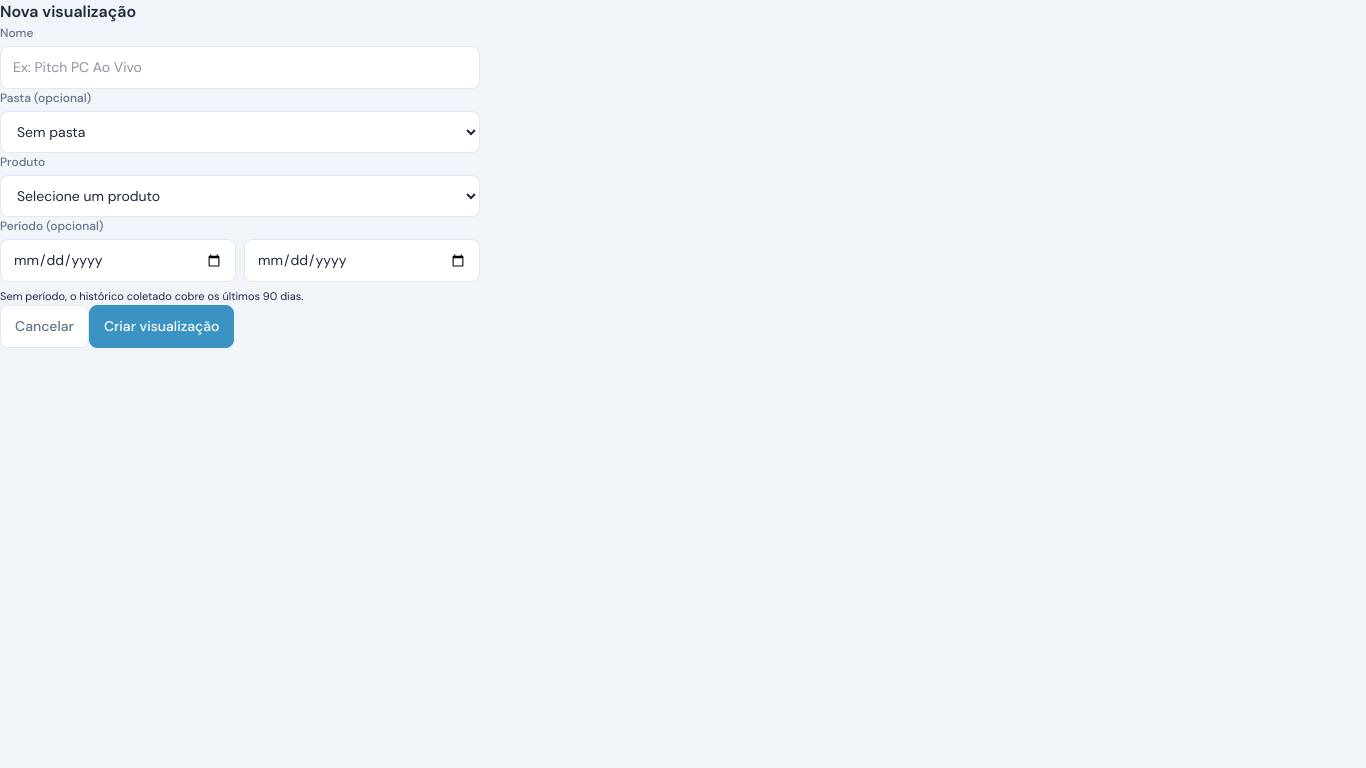
Scenario: ViewFormModal — criar › código manual: trim, aceita sem venda conhecida, recusa duplicado e vazio
Select "Produto Um" in the dropdown with test id "view-form-product" at (240, 196), box [0, 175, 480, 217]
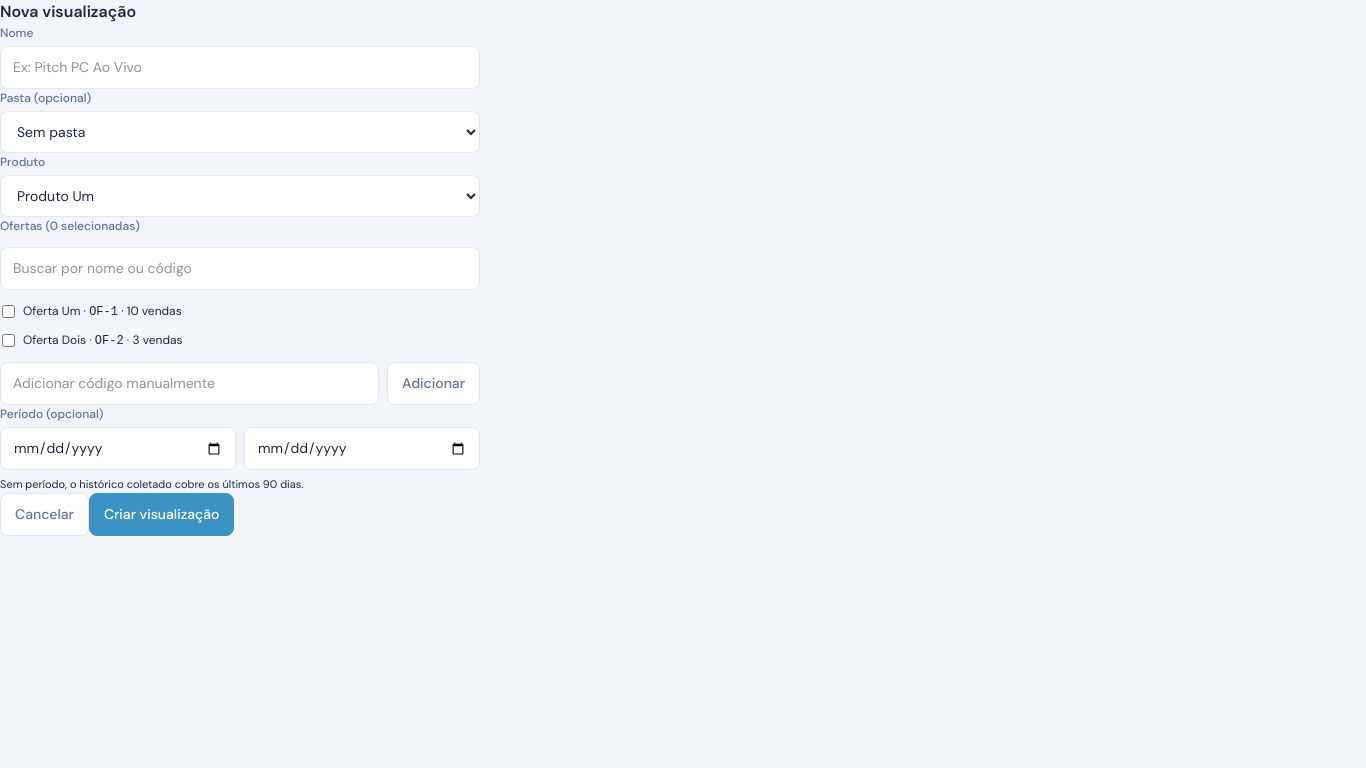
Result: the checkbox with test id "view-form-offer-OF-1" is shown at [2, 305, 15, 318]
Click the button with test id "view-form-manual-add" at (434, 384), box [387, 362, 480, 405]
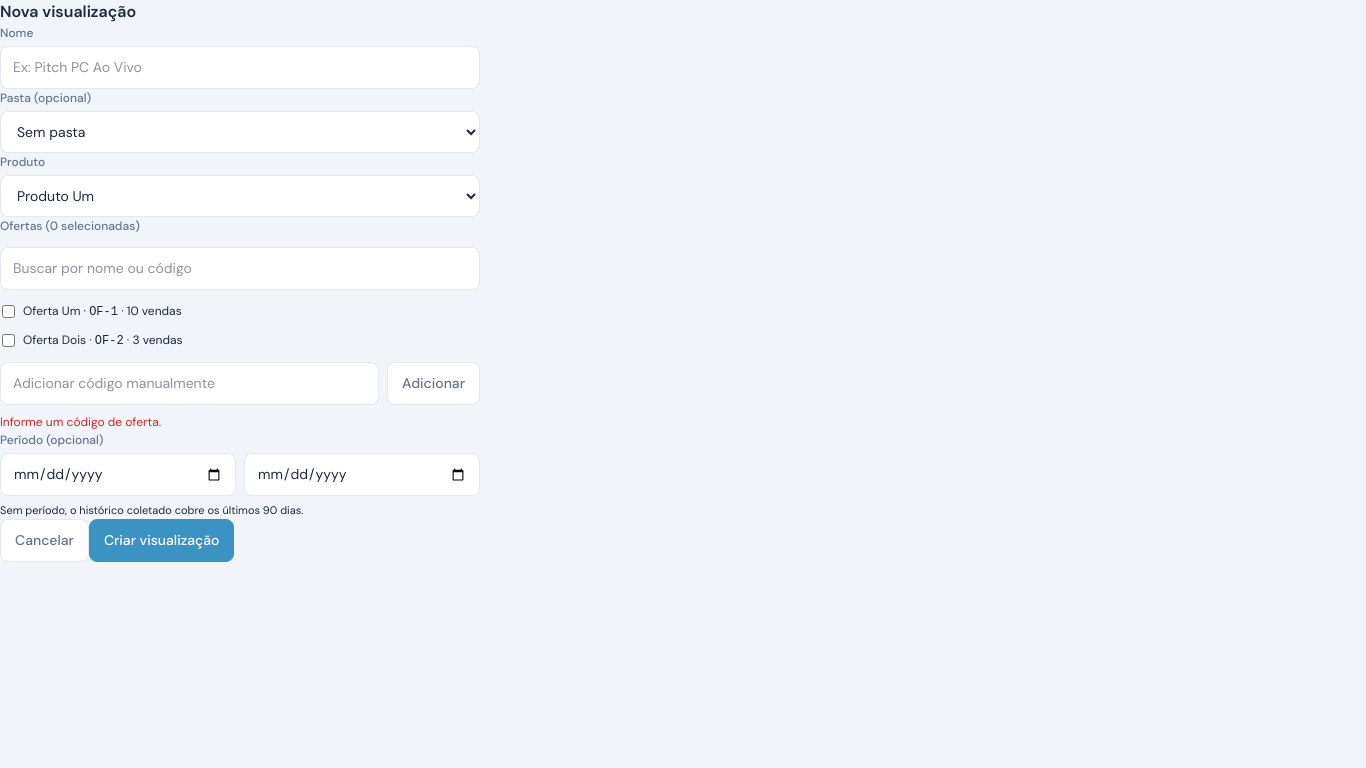
Result: the message with test id "view-form-offer-message" shows "Informe um código" at [0, 414, 161, 430]
Type "  ZZ9  " into the field with test id "view-form-manual-input" at (190, 384), box [0, 362, 379, 405]
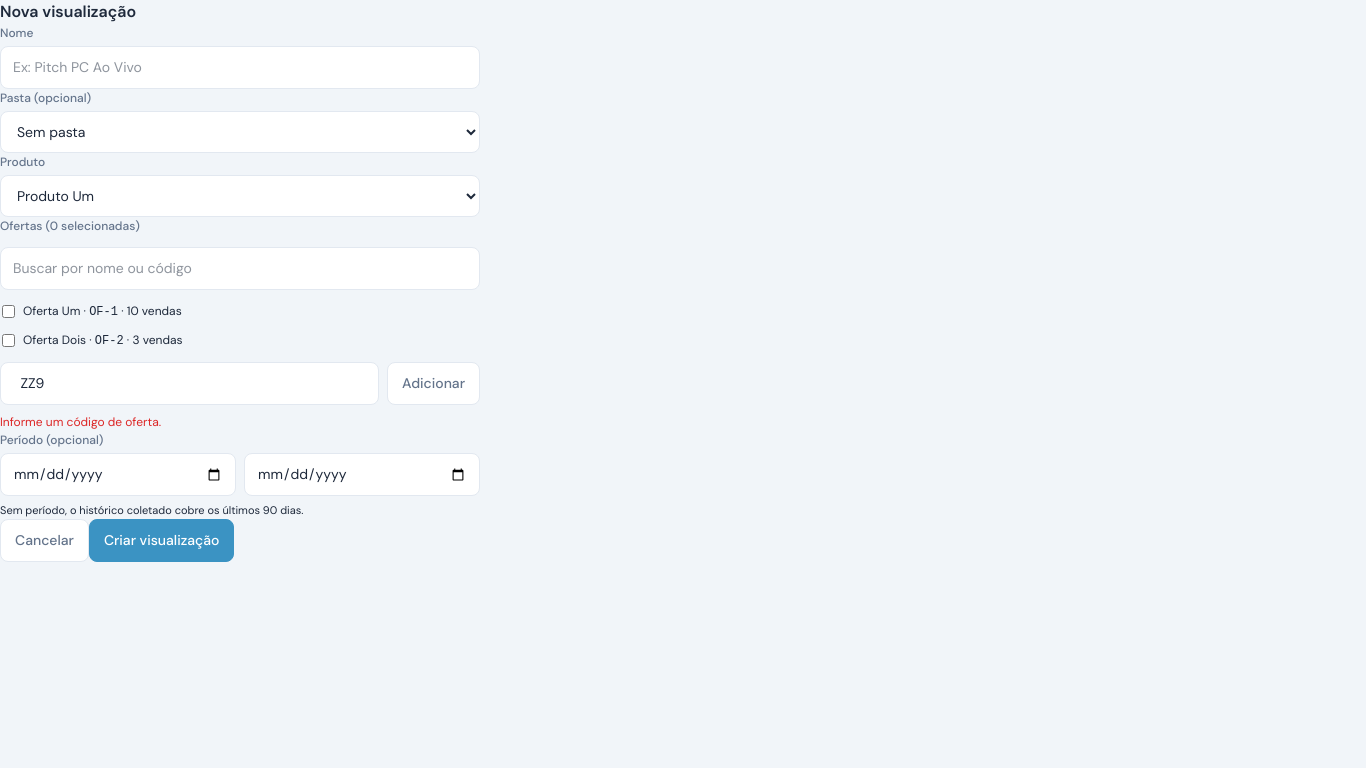
Click the button with test id "view-form-manual-add" at (434, 384), box [387, 362, 480, 405]
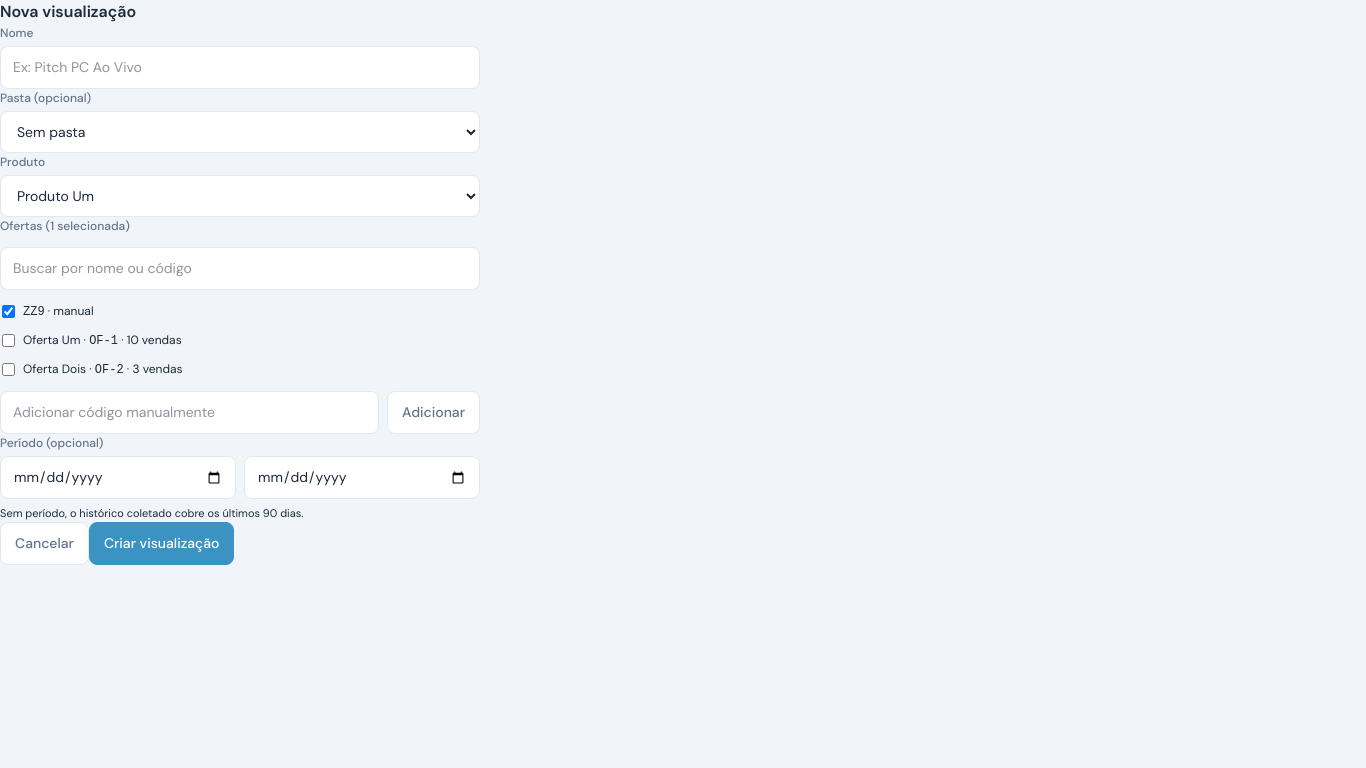
Result: the checkbox with test id "view-form-offer-ZZ9" is checked at [2, 305, 15, 318]
Type "ZZ9" into the field with test id "view-form-manual-input" at (190, 412), box [0, 391, 379, 434]
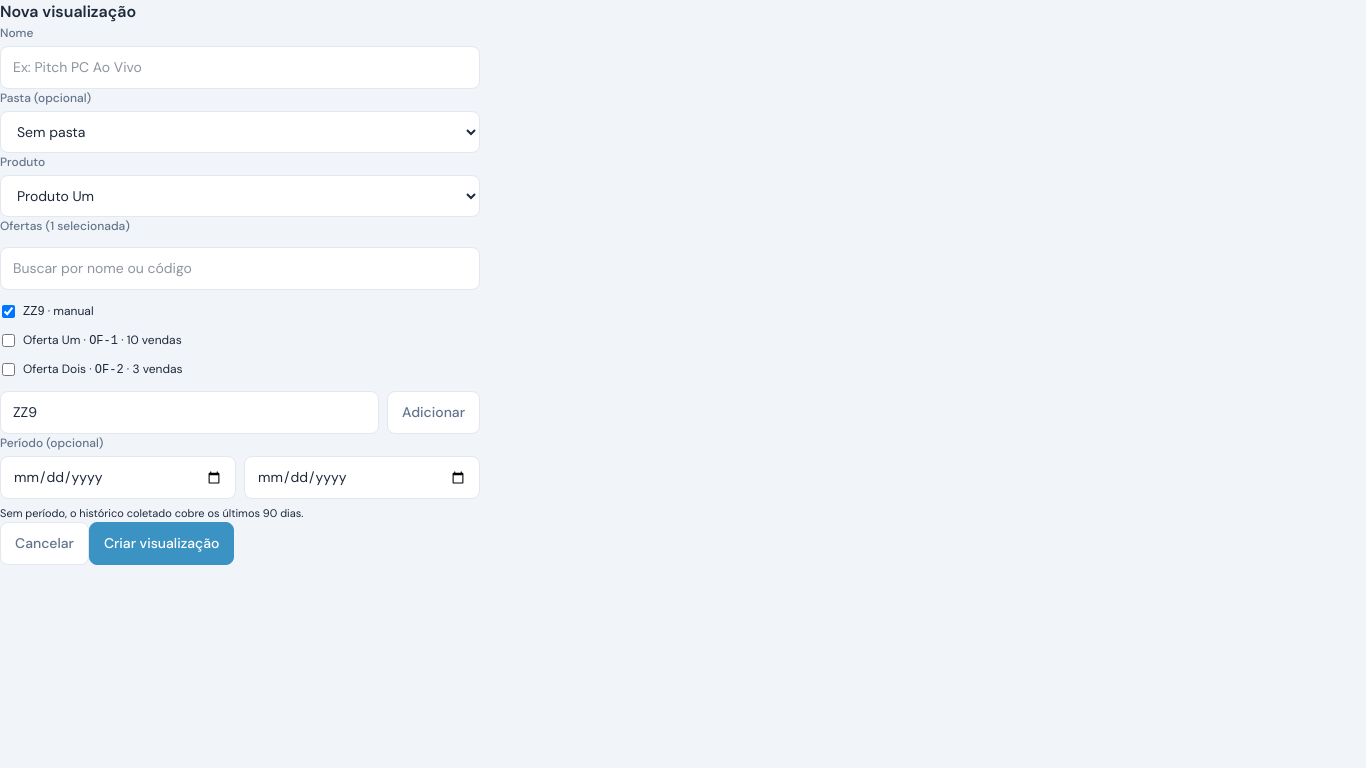
Click the button with test id "view-form-manual-add" at (434, 412), box [387, 391, 480, 434]
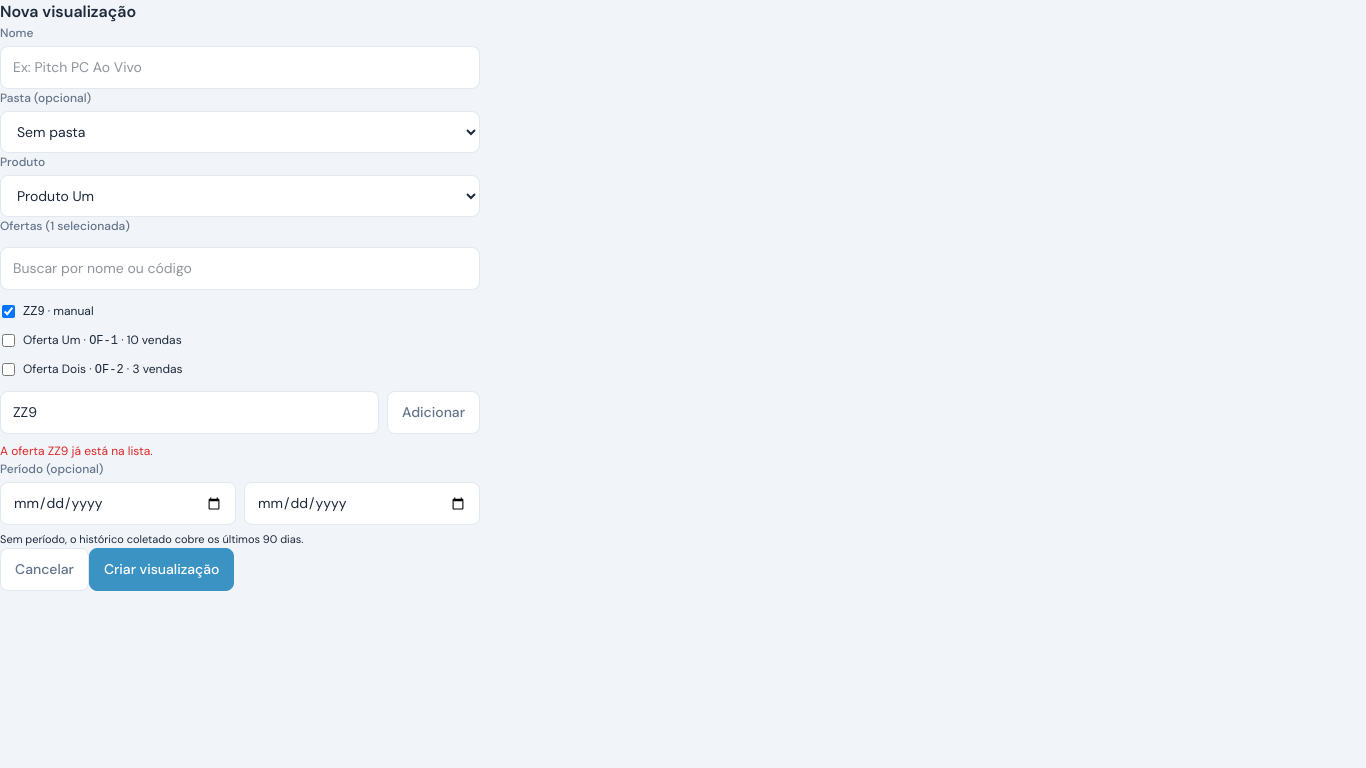
Result: the message with test id "view-form-offer-message" shows "já está na lista" at [0, 443, 153, 459]
